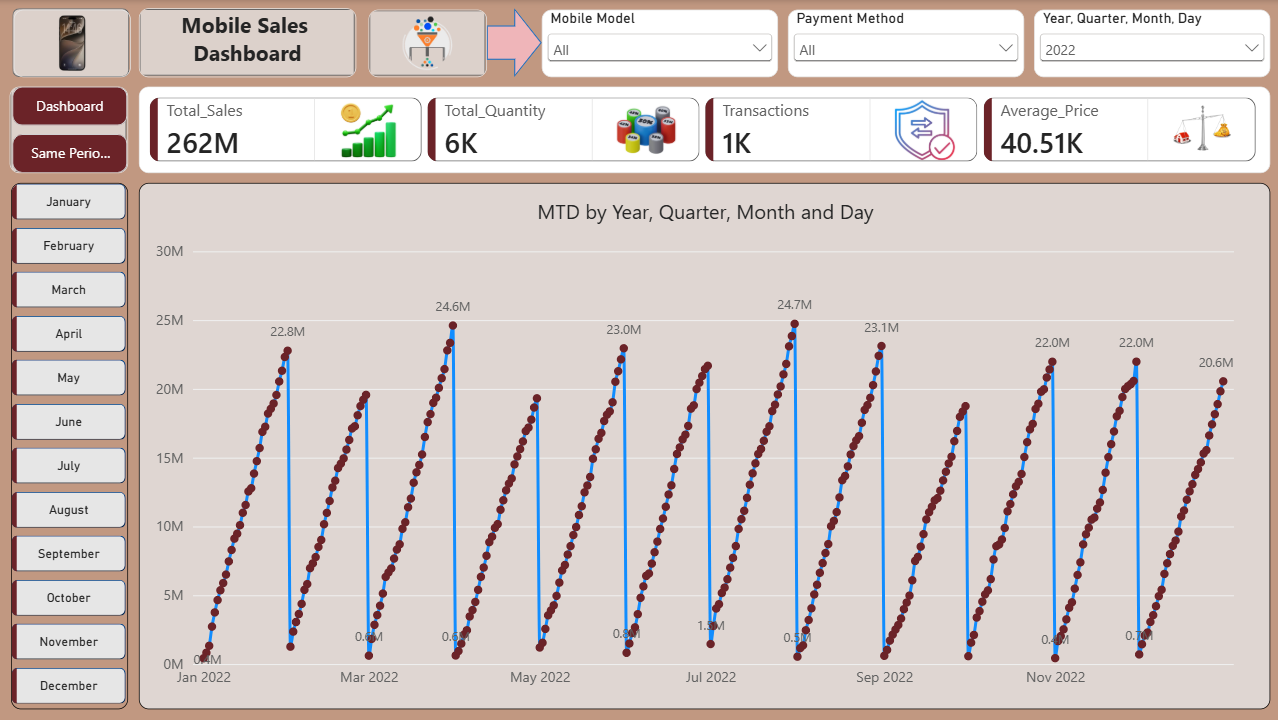

Layout of this report page (visuals, bound fields, positions):
{"tool":"powerbi","page":{"name":"MTD Report","canvas":[1280,720],"ordinal":1},"visuals":[{"type":"shape","box":[12.4,8.3,116.9,68.8],"z":0},{"type":"image","box":[13.8,9.6,116.9,67.4],"z":1000},{"type":"shape","box":[9.6,86.6,118.3,86.6],"z":2000},{"type":"cardVisual","fields":{"Data":["Mobile_Sales_Data.Total_Sales","Mobile_Sales_Data.Total_Quantity","Mobile_Sales_Data.Transactions","Mobile_Sales_Data.Average_Price"]},"box":[138.9,86.6,1131.9,86.6],"z":3000},{"type":"slicer","fields":{"Values":["Mobile_Sales_Data.Mobile Model"]},"box":[541.9,9.6,236.5,67.4],"z":4000},{"type":"slicer","fields":{"Values":["Mobile_Sales_Data.Payment Method"]},"box":[788,9.6,236.5,67.4],"z":5000},{"type":"slicer","fields":{"Values":["Custom_Calendar.Date.Variation.Date Hierarchy.Year","Custom_Calendar.Date.Variation.Date Hierarchy.Quarter","Custom_Calendar.Date.Variation.Date Hierarchy.Month","Custom_Calendar.Date.Variation.Date Hierarchy.Day"]},"box":[1034.2,9.6,236.5,67.4],"z":6000},{"type":"shape","box":[368.6,9.6,118.3,67.4],"z":7000},{"type":"shape","box":[486.8,8.3,55,68.8],"z":8000},{"type":"image","box":[368.6,16.5,118.3,53.6],"z":9000},{"type":"shape","box":[138.9,8.3,217.3,68.8],"z":10000},{"type":"textbox","box":[138.9,9.6,217.3,67.4],"z":11000},{"type":"lineChart","fields":{"Category":["Custom_Calendar.Date.Variation.Date Hierarchy.Year","Custom_Calendar.Date.Variation.Date Hierarchy.Quarter","Custom_Calendar.Date.Variation.Date Hierarchy.Month","Custom_Calendar.Date.Variation.Date Hierarchy.Day"],"Y":["Mobile_Sales_Data.MTD"]},"box":[138.9,182.9,1131.9,526.7],"z":12000},{"type":"advancedSlicerVisual","fields":{"Values":["Custom_Calendar.Date.Variation.Date Hierarchy.Month"]},"box":[11,182.9,116.9,526.7],"z":13000},{"type":"pageNavigator","box":[12.4,86.6,115.5,86.6],"z":14000}]}

Visuals, with their boxes in screenshot pixels (x1, y1, x2, y2), scaled from the page's 1280x720 canvas onto the 1278x720 screenshot:
shape: bbox(12, 8, 129, 77)
image: bbox(14, 10, 130, 77)
shape: bbox(10, 87, 128, 173)
cardVisual - Mobile_Sales_Data.Total_Sales x Mobile_Sales_Data.Total_Quantity: bbox(139, 87, 1269, 173)
slicer - Mobile_Sales_Data.Mobile Model: bbox(541, 10, 777, 77)
slicer - Mobile_Sales_Data.Payment Method: bbox(787, 10, 1023, 77)
slicer - Custom_Calendar.Date.Variation.Date Hierarchy.Year x Custom_Calendar.Date.Variation.Date Hierarchy.Quarter: bbox(1033, 10, 1269, 77)
shape: bbox(368, 10, 486, 77)
shape: bbox(486, 8, 541, 77)
image: bbox(368, 16, 486, 70)
shape: bbox(139, 8, 356, 77)
textbox: bbox(139, 10, 356, 77)
lineChart - Custom_Calendar.Date.Variation.Date Hierarchy.Year x Custom_Calendar.Date.Variation.Date Hierarchy.Quarter: bbox(139, 183, 1269, 710)
advancedSlicerVisual - Custom_Calendar.Date.Variation.Date Hierarchy.Month: bbox(11, 183, 128, 710)
pageNavigator: bbox(12, 87, 128, 173)
